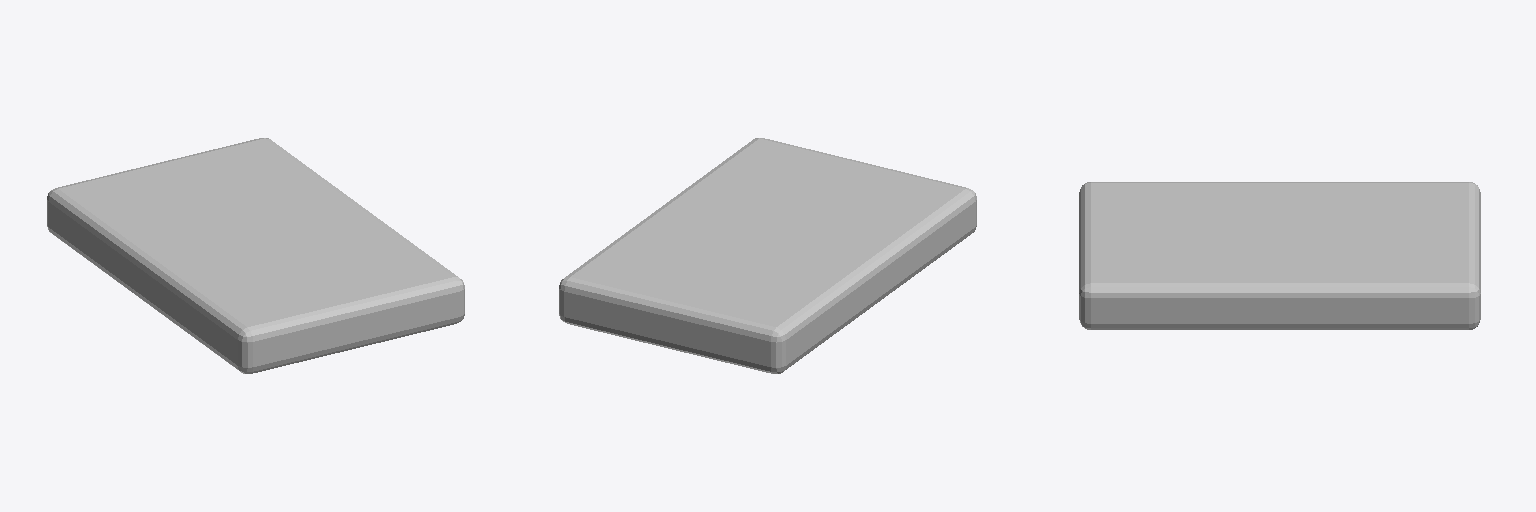
The model's file is materace.obj.
3 views of the same model, side by side, from view 1: azimuth 30°, elevation 25°; view 2: azimuth 150°, elevation 25°; view 3: azimuth 270°, elevation 25° (orthographic).
Visible parts, largest first — view 1: materace_Cube.005; view 2: materace_Cube.005; view 3: materace_Cube.005.
Boxes of the visible parts, x1,y1,x2,y2 form: materace_Cube.005: [47, 138, 464, 373]; materace_Cube.005: [559, 138, 976, 373]; materace_Cube.005: [1079, 182, 1480, 329].
Bounding box in the file's own units: 1.19 × 0.2314 × 1.83.